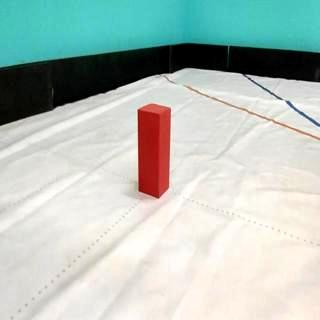redbox: (136, 101, 172, 199)
